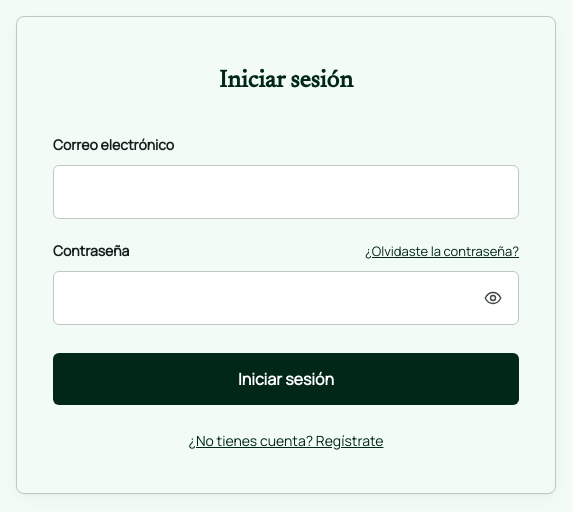
Test case: Login Page - password visibility toggle › updates accessible toggle button name to Ocultar contraseña on click (C2)
The width and height of the screenshot is (573, 512).
Click the button named "Mostrar contraseña".
click(493, 298)  # box [479,284,507,312]
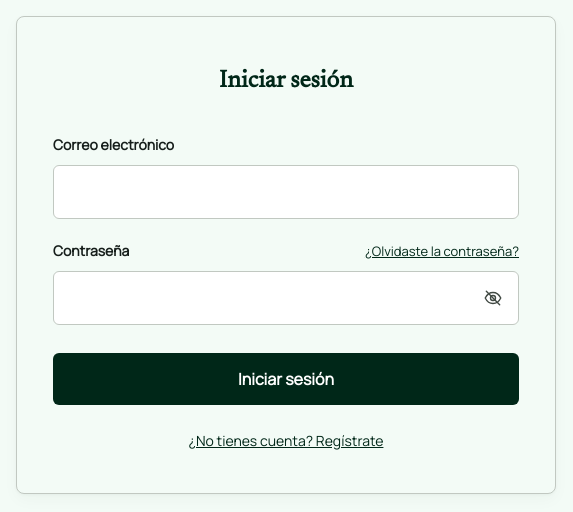
Now the button named "Ocultar contraseña" is shown, box [479,284,507,312]
